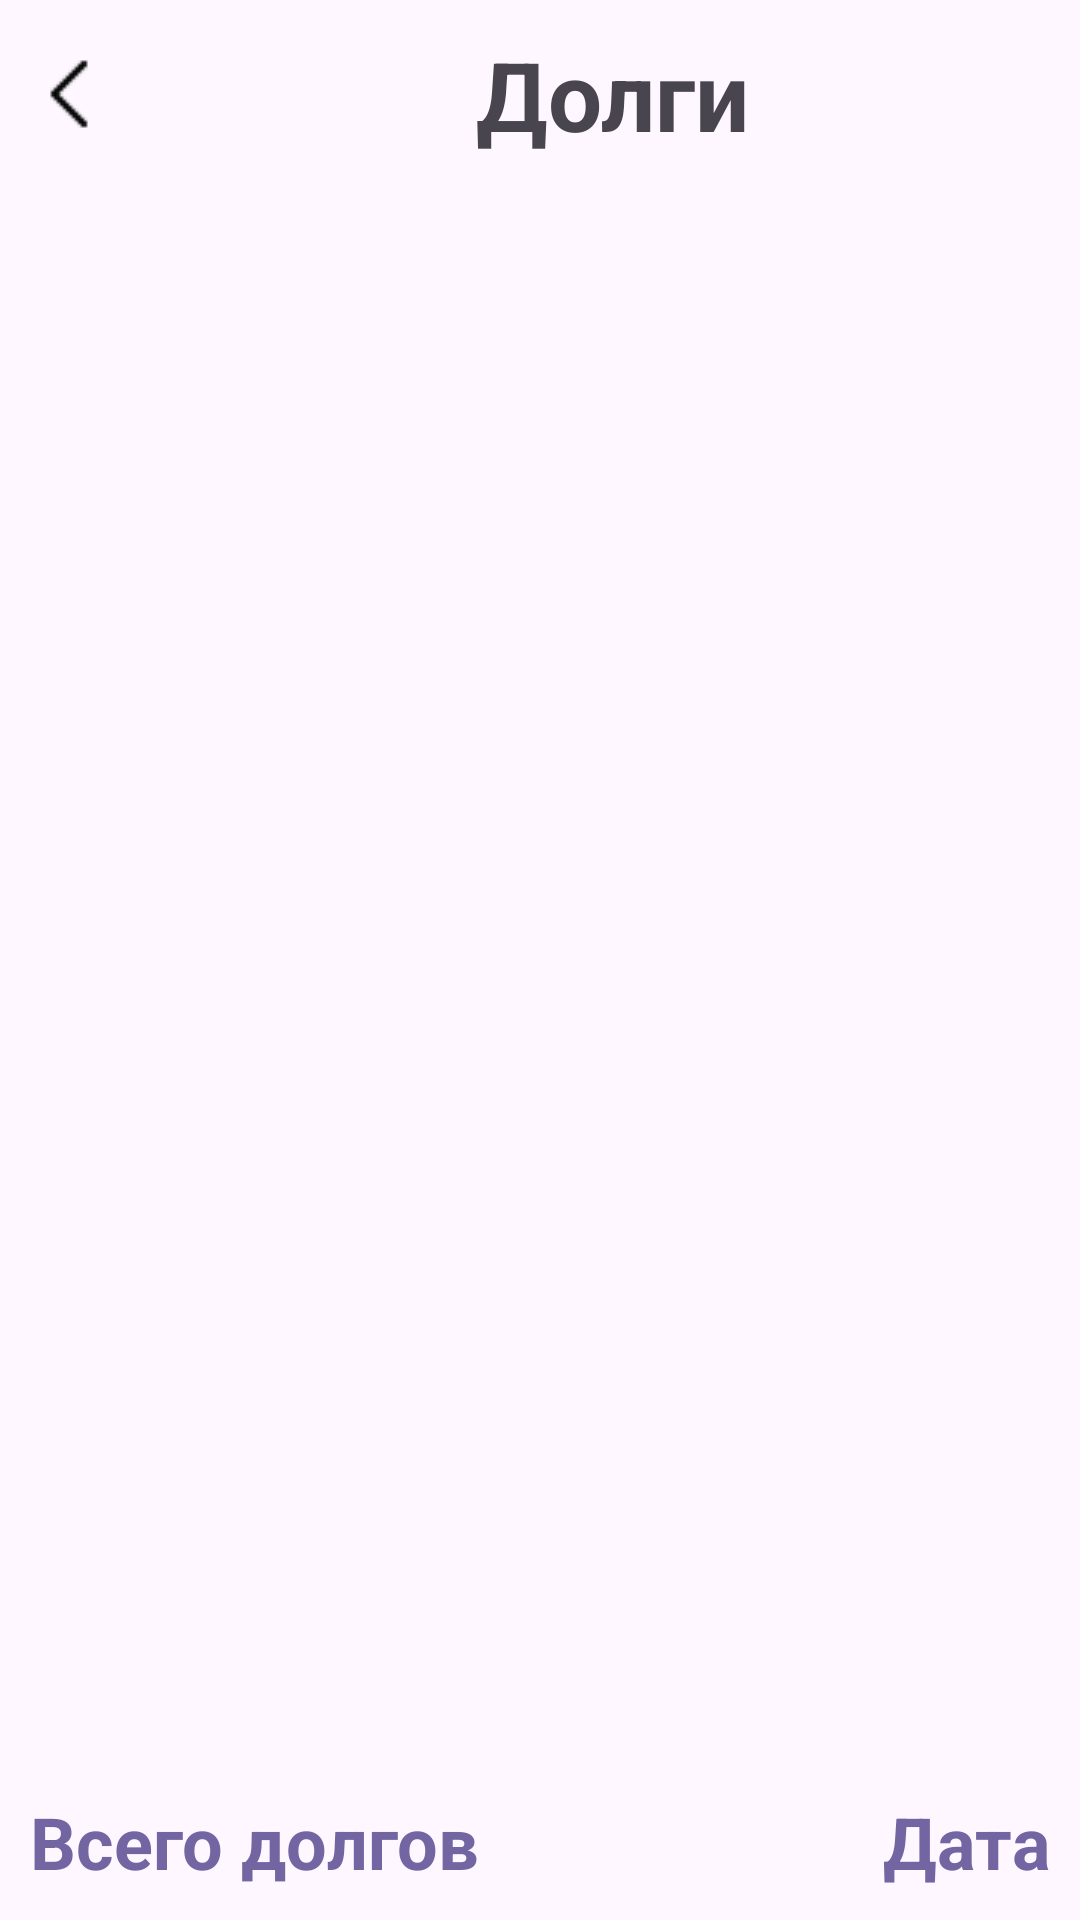

Locate icon controls on the screen. Image size 1080x1920, boxes as {"left": x1, "top": y1, "right": x2, "bottom": y2}.
back: {"left": 50, "top": 60, "right": 88, "bottom": 128}
